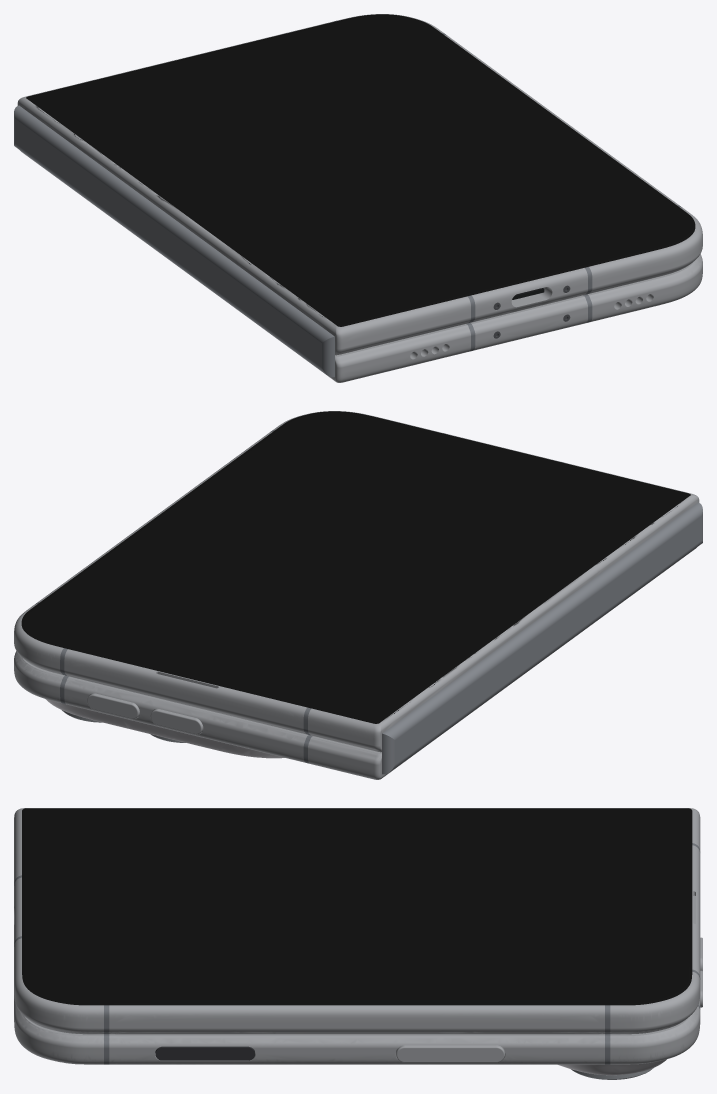
File: iphone_duo.glb
The picture shows the model from 3 angles, top to bottom: view 1: azimuth 30°, elevation 25°; view 2: azimuth 150°, elevation 25°; view 3: azimuth 270°, elevation 25°; orthographic projection. The views are drawn at different scales.
Parts seen in each view (by area): view 1: A_cover_glass; view 2: A_cover_glass; view 3: A_cover_glass.
Part boxes in pixels (box(x1,y1,x2,y2)): A_cover_glass: box(14, 14, 702, 382); A_cover_glass: box(14, 411, 702, 779); A_cover_glass: box(14, 808, 702, 1079).
Size of the model in its own units: 0.0845 by 0.017 by 0.1183.
Materials: 1 (1 with a texture image).
